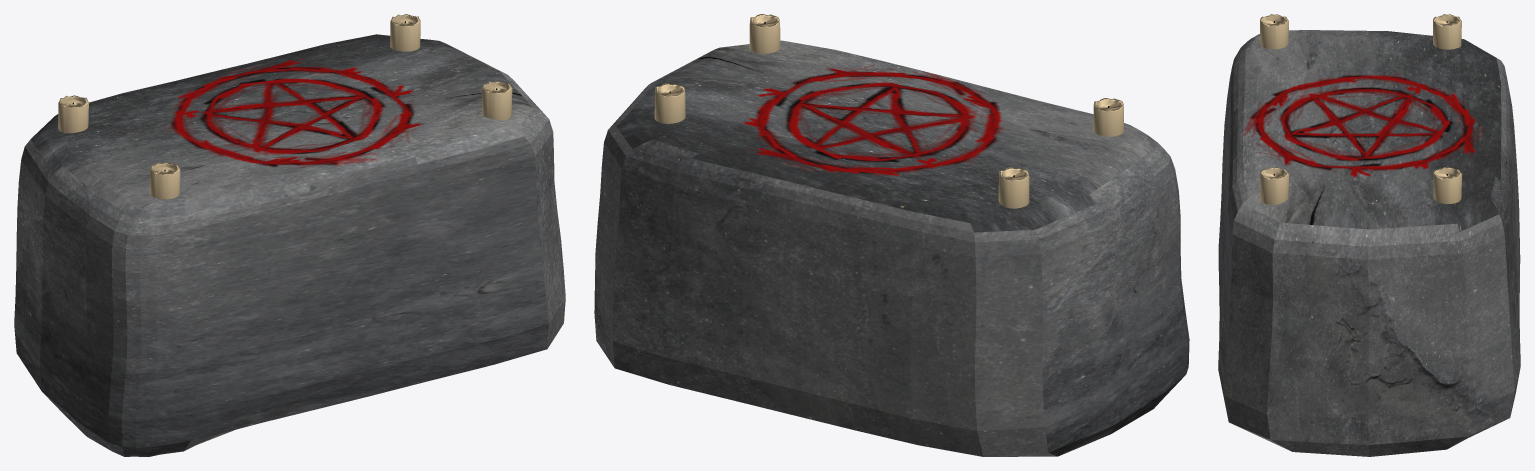
The model's file is Altar.fbx.
3 views of the same model, side by side, from view 1: azimuth 30°, elevation 25°; view 2: azimuth 150°, elevation 25°; view 3: azimuth 270°, elevation 25° (orthographic). The views are drawn at different scales.
Visible parts, largest first — view 1: Cube, Cylinder.001, Cylinder.005, Cylinder.006, Cylinder.004; view 2: Cube, Cylinder.005, Cylinder.006, Cylinder.001, Cylinder.004; view 3: Cube, Cylinder.001, Cylinder.006, Cylinder.005, Cylinder.004.
Part boxes in pixels (x1,y1,x2,y2): Cube: (14,34,565,456); Cylinder.001: (482,81,512,120); Cylinder.005: (58,95,88,133); Cylinder.006: (390,14,420,51); Cylinder.004: (150,162,180,199); Cube: (594,40,1189,456); Cylinder.005: (998,167,1029,208); Cylinder.006: (654,83,685,123); Cylinder.001: (749,14,780,53); Cylinder.004: (1093,98,1124,136); Cube: (1218,30,1520,456); Cylinder.001: (1260,167,1289,205); Cylinder.006: (1433,167,1462,203); Cylinder.005: (1433,14,1461,49); Cylinder.004: (1260,14,1288,49).
Size of the model in its own units: 497 by 278 by 288.
